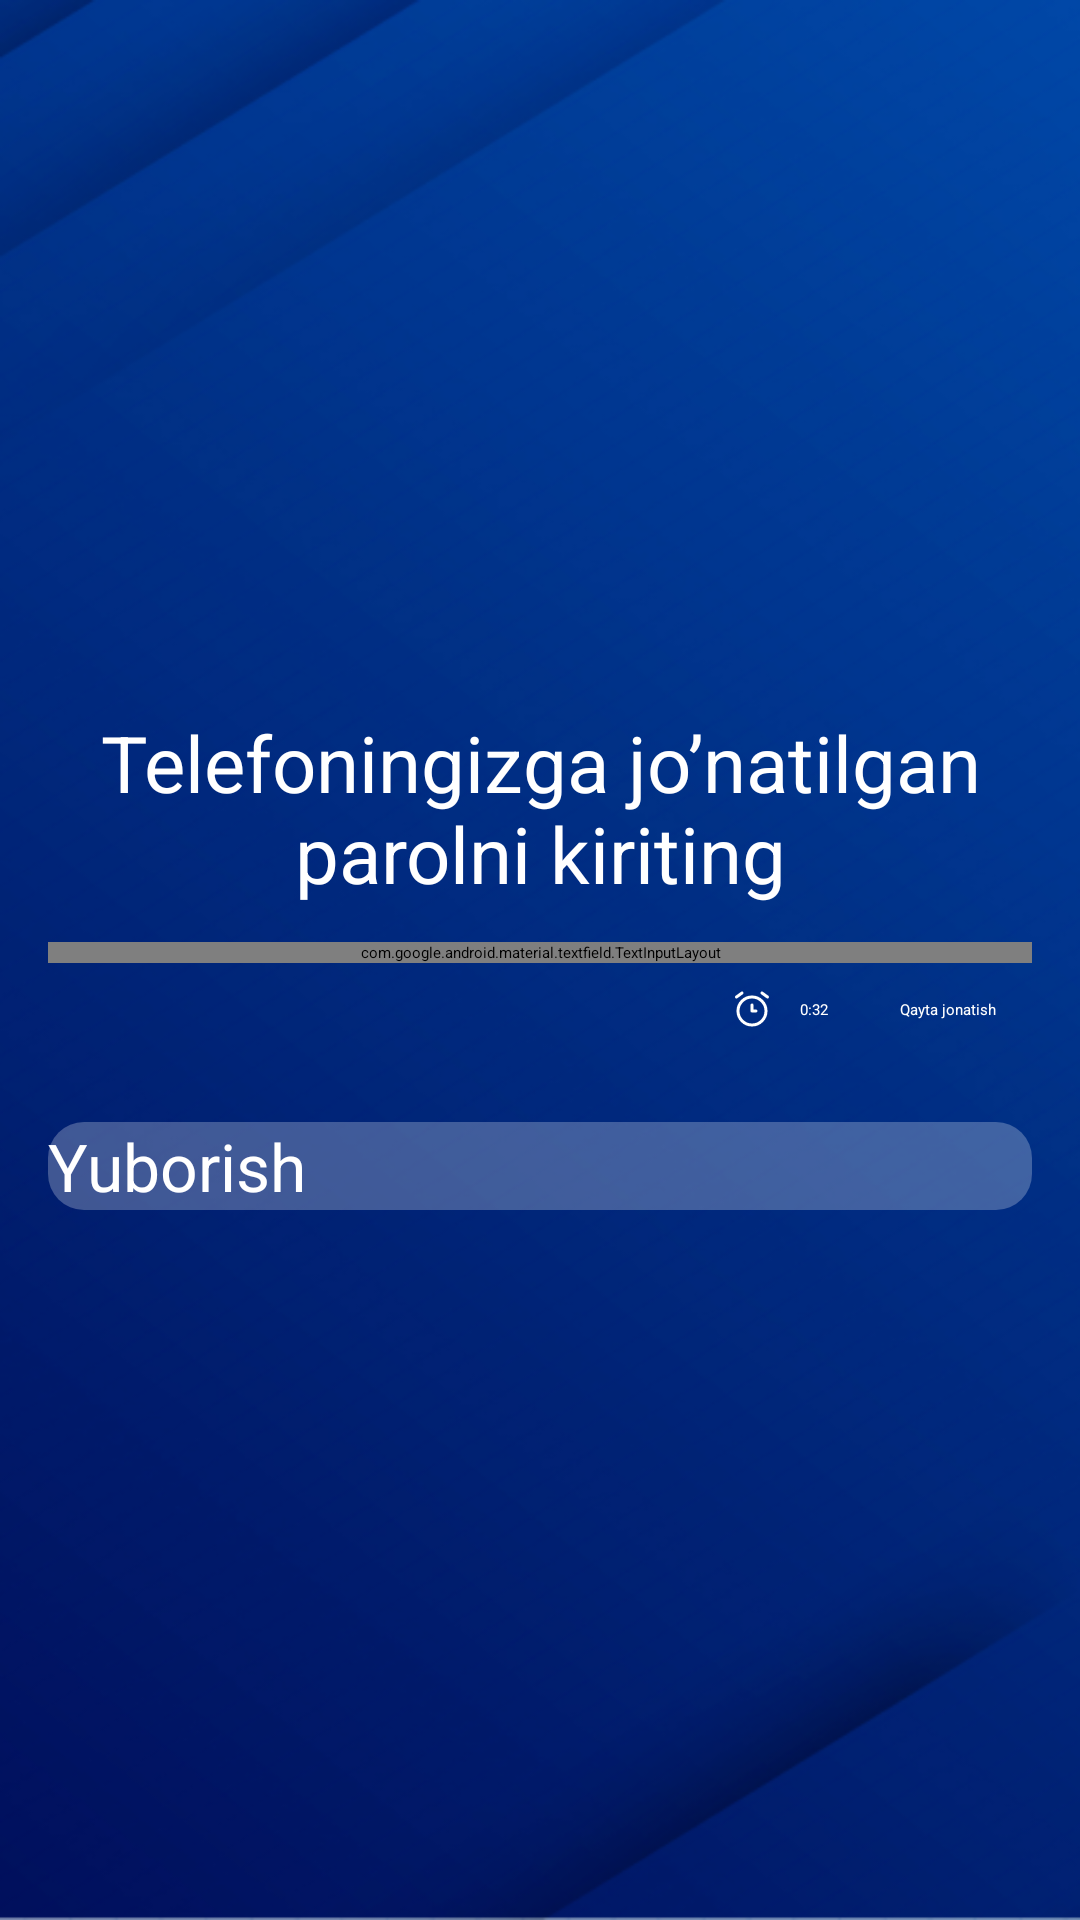

Named icons in this screenshot (1080w x 1920h) and their bounding boxes, box(x1, y1, x2, y2):
time: box(735, 991, 769, 1027)
